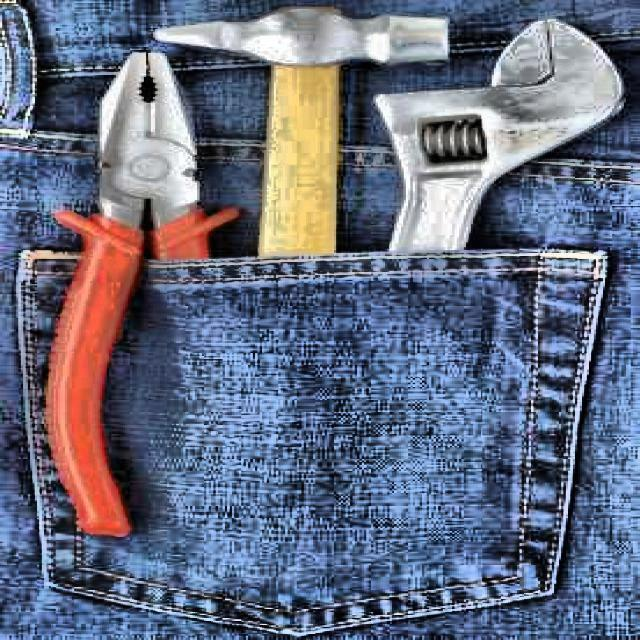hammer: (156, 6, 450, 252)
